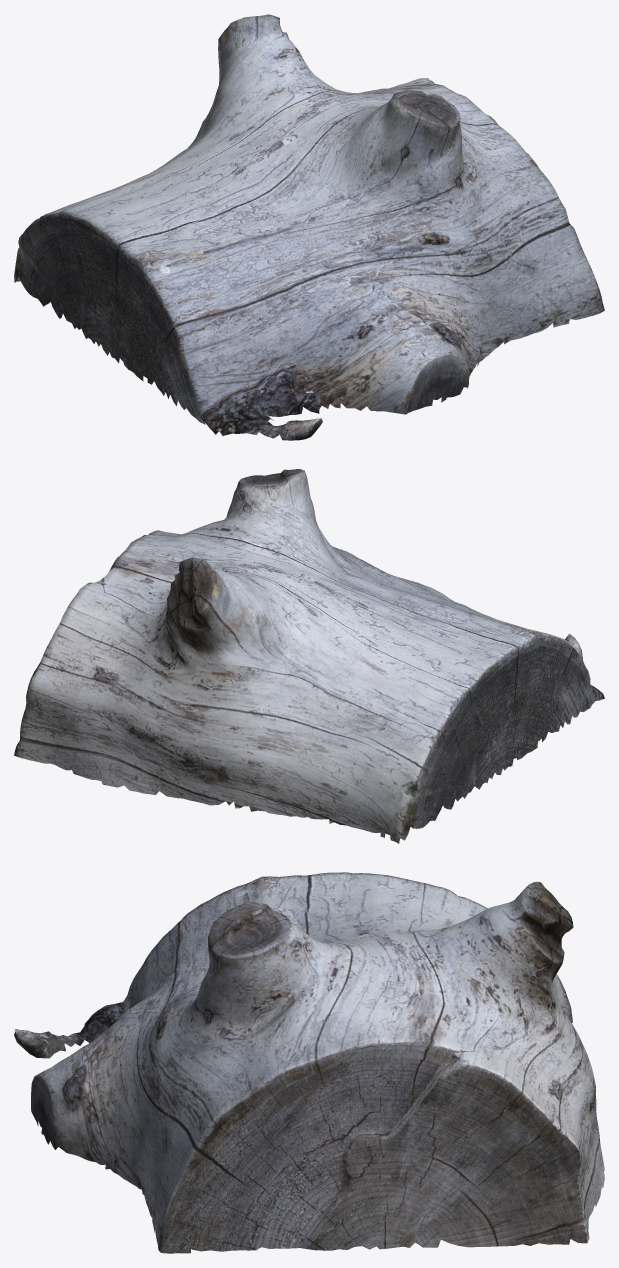
File: root-decoration2.glb
The picture shows the model from 3 angles, top to bottom: view 1: azimuth 30°, elevation 25°; view 2: azimuth 150°, elevation 25°; view 3: azimuth 270°, elevation 25°; orthographic projection. The views are drawn at different scales.
Parts seen in each view (by area): view 1: Photoscanned Pine Tree Log 03.001; view 2: Photoscanned Pine Tree Log 03.001; view 3: Photoscanned Pine Tree Log 03.001.
Part boxes in pixels (x1=…): Photoscanned Pine Tree Log 03.001: x1=14, y1=14, x2=604, y2=440; Photoscanned Pine Tree Log 03.001: x1=14, y1=469, x2=604, y2=843; Photoscanned Pine Tree Log 03.001: x1=14, y1=872, x2=604, y2=1253.
Size of the model in its own units: 1 by 0.5098 by 1.04.
1 material, 1 textured.
